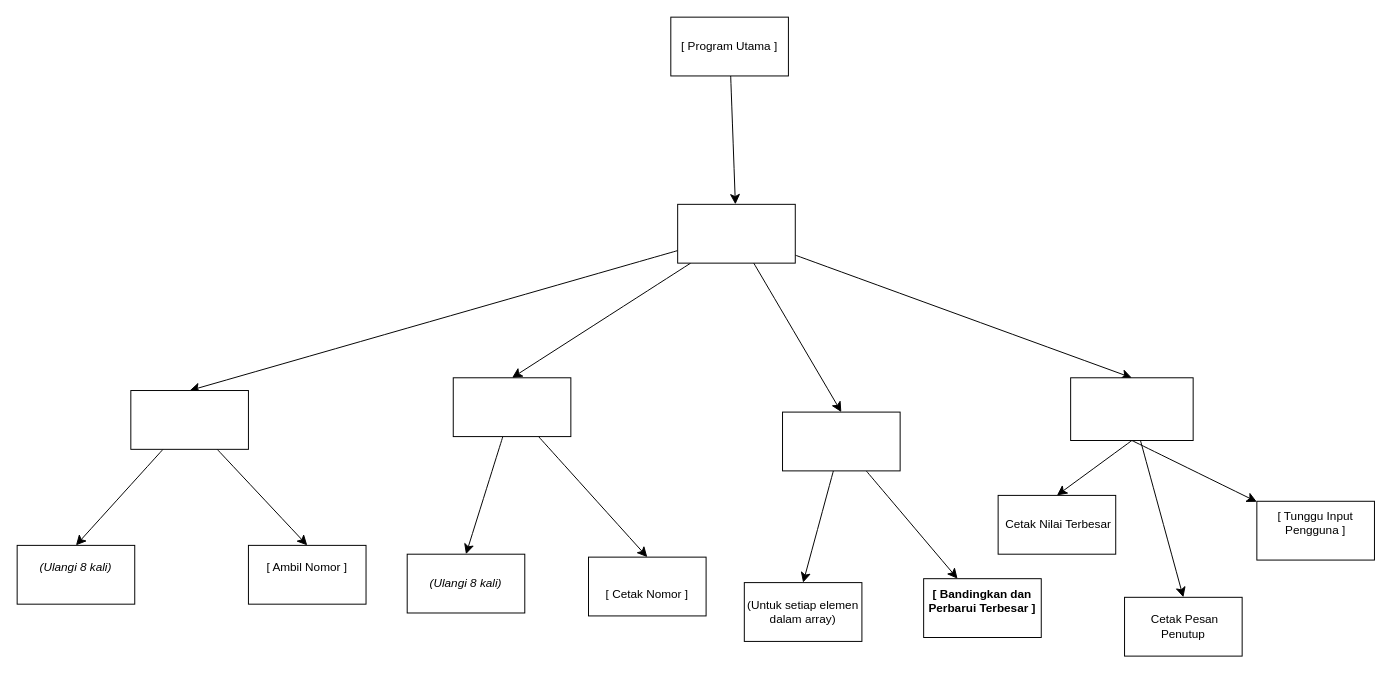
Some shapes in this 1392 by 673 pixel diagram are drawn without their labels. The shapes that lost their labels are listed below. From the top down, each one's centre as x and y in pixels, then its label:
At pixel 736 233: "[ Urutan ]".
At pixel 189 419: "* [ Masukkan Nomor ] (Perulangan )".
At pixel 511 407: "* [ Tampilkan Nomor ] (Perulangan )".
At pixel 1131 409: "Tampilkan Hasil".
At pixel 841 441: "* [ Cari Nilai Terbesar ] (Perulangan )".
